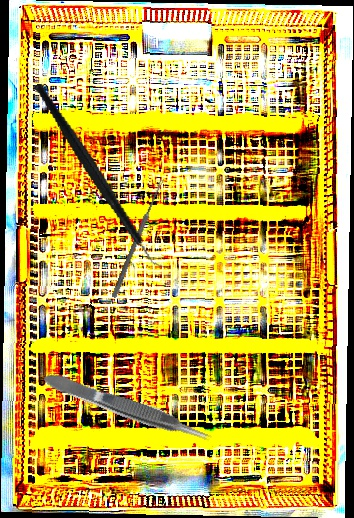Chopper: (33, 64, 173, 290)
Surgical Spoon: (111, 177, 165, 299)
Tissue Forceps: (41, 365, 215, 450)
